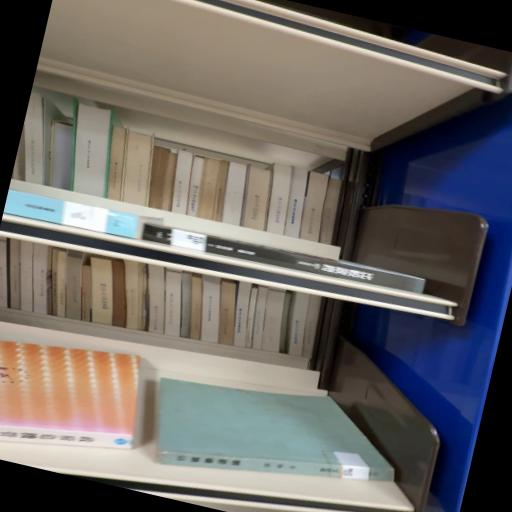flat: (156, 378, 394, 482), (143, 223, 424, 293), (0, 340, 140, 449), (3, 188, 152, 239)
